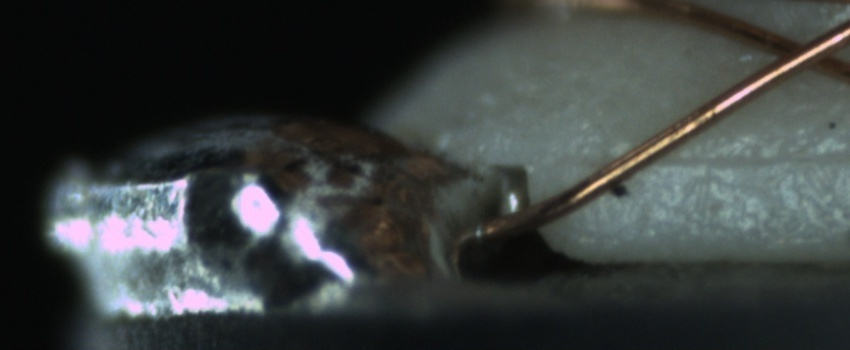CL: (751, 21, 844, 81)
DL: (603, 126, 847, 190)
